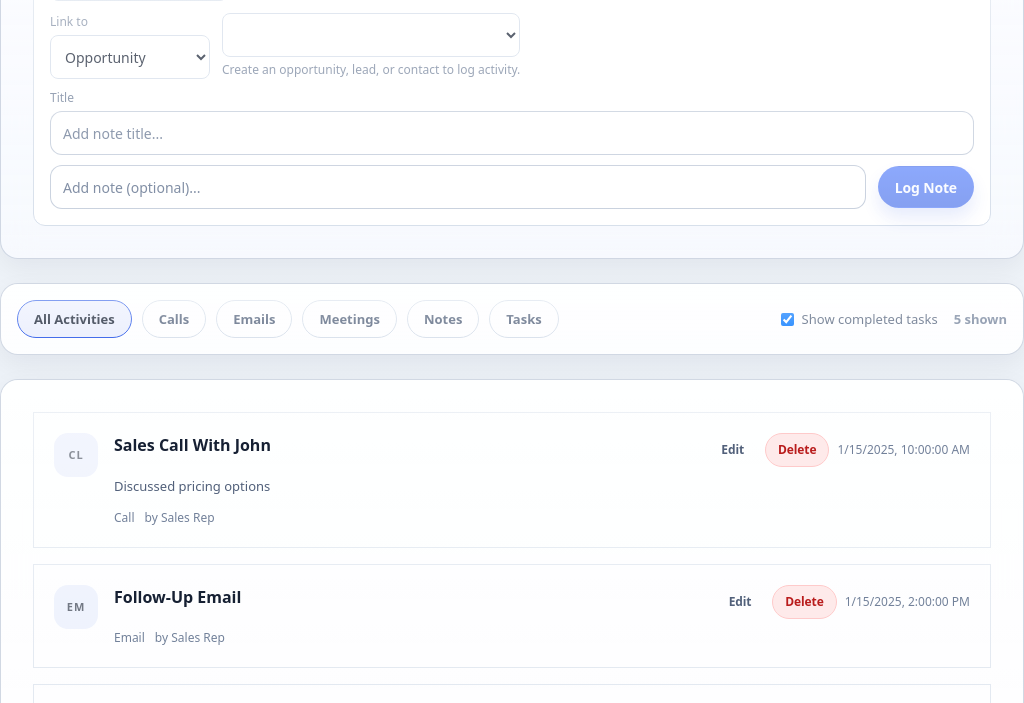
ActivitiesPage › shows empty state when filter results in no activities
(page scrolled)
// Click on Notes filter
Click the button "Notes": (443, 319) [407,300,479,338]
(page scrolled)
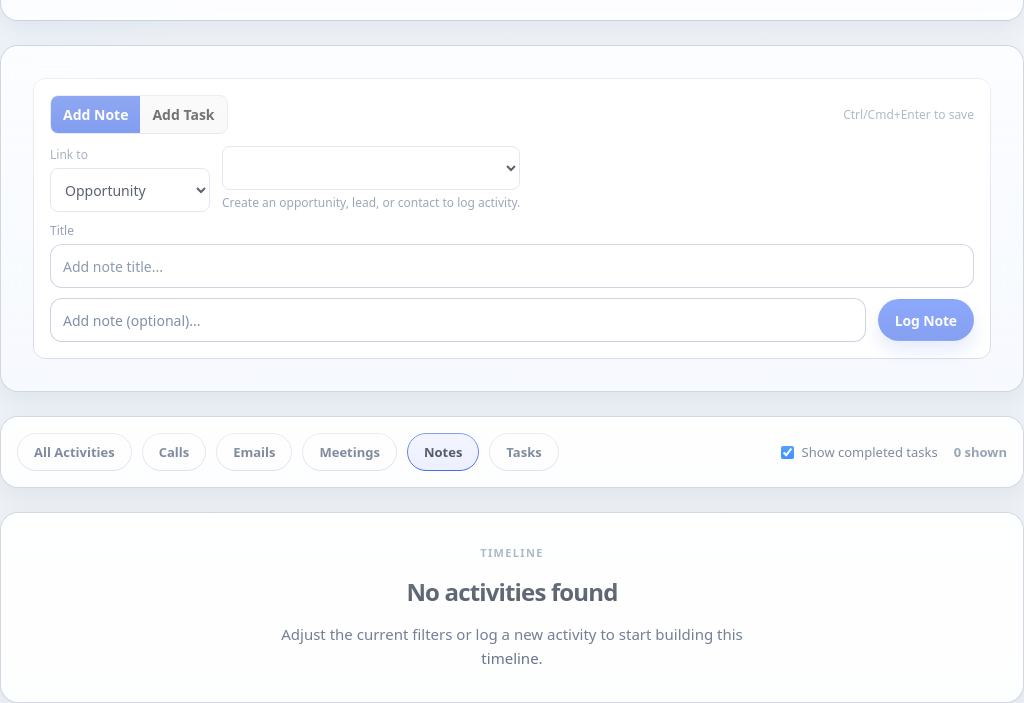
Now the heading "No activities found" is shown, box [406,574,618,610]
